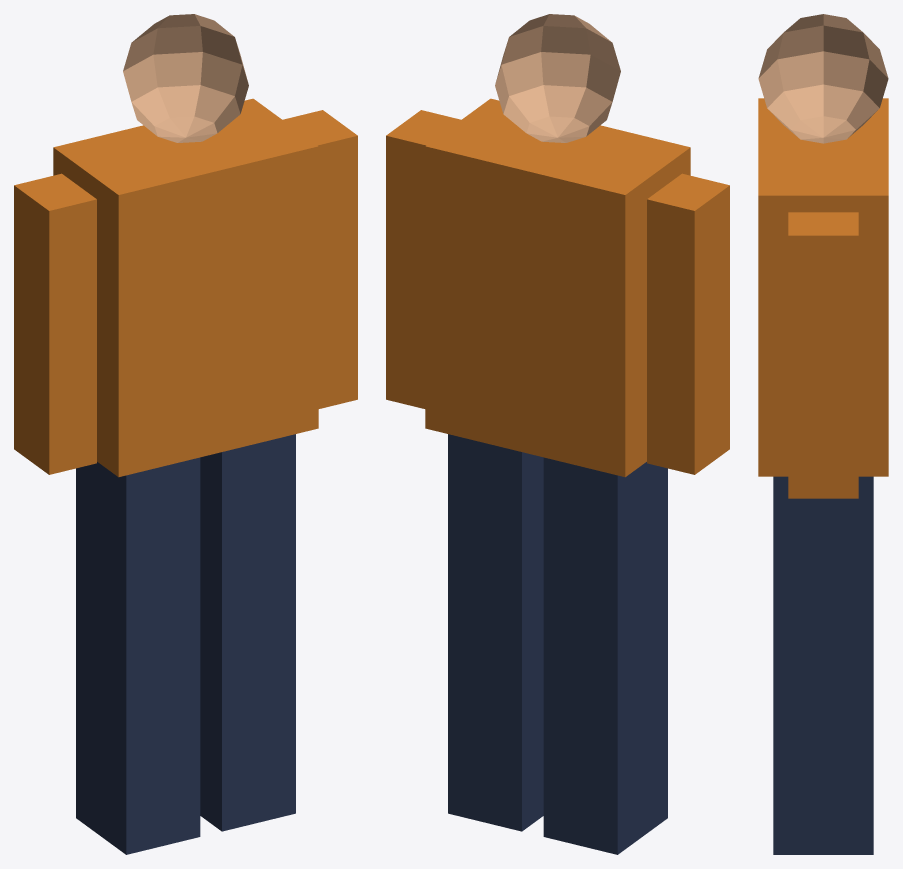
File: person.glb
The picture shows the model from 3 angles, left to right: view 1: azimuth 30°, elevation 25°; view 2: azimuth 150°, elevation 25°; view 3: azimuth 270°, elevation 25°; orthographic projection.
Parts seen in each view (by area): view 1: torso, leg-l, leg-r, arm-l, head, arm-r; view 2: torso, leg-l, leg-r, arm-l, head, arm-r; view 3: leg-r, torso, arm-r, head.
Part boxes in pixels (bbox=[...]): torso: bbox=[53, 98, 318, 477]; leg-l: bbox=[76, 457, 200, 854]; leg-r: bbox=[200, 434, 295, 831]; arm-l: bbox=[14, 173, 96, 474]; head: bbox=[123, 14, 248, 142]; arm-r: bbox=[282, 110, 357, 408]; torso: bbox=[425, 98, 690, 477]; leg-l: bbox=[543, 457, 667, 854]; leg-r: bbox=[448, 434, 543, 831]; arm-l: bbox=[647, 173, 729, 474]; head: bbox=[495, 14, 620, 142]; arm-r: bbox=[386, 110, 461, 408]; leg-r: bbox=[773, 476, 873, 854]; torso: bbox=[758, 98, 888, 476]; arm-r: bbox=[788, 212, 858, 498]; head: bbox=[758, 14, 888, 143].
Size of the model in its own units: 0.71 by 1.75 by 0.26.
